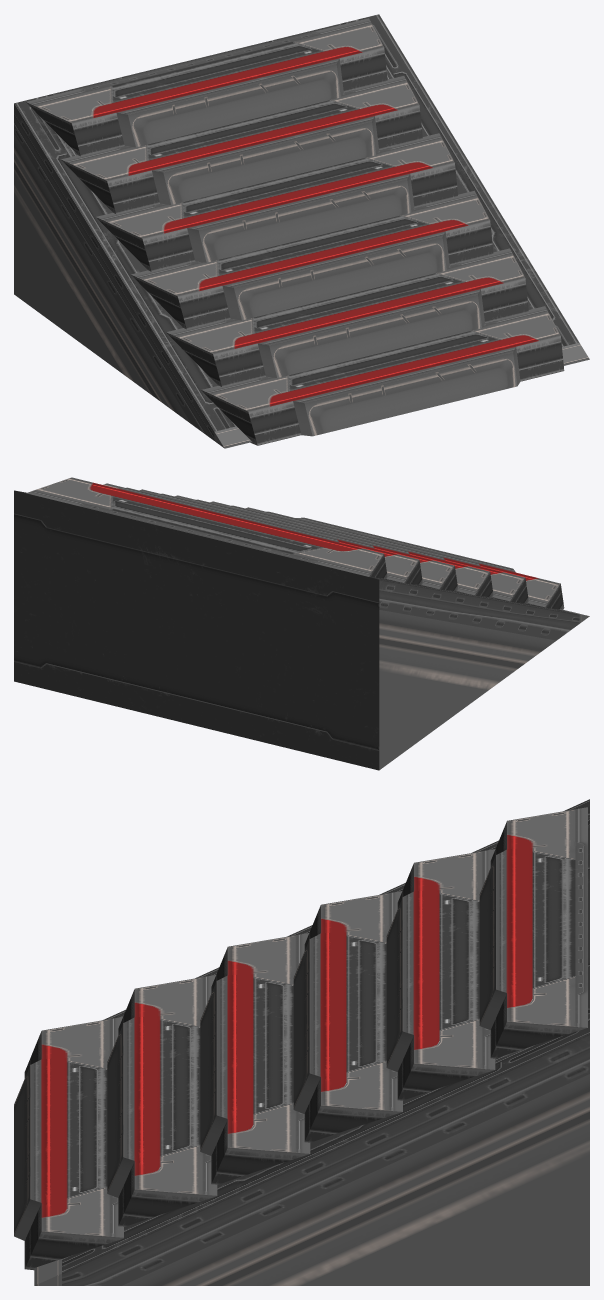
The model's file is Platform_Stairs_2.gltf.
3 views of the same model, one above another, from view 1: azimuth 30°, elevation 25°; view 2: azimuth 150°, elevation 25°; view 3: azimuth 270°, elevation 25° (orthographic). The views are drawn at different scales.
Visible parts, largest first — view 1: Platform_Stairs_2; view 2: Platform_Stairs_2; view 3: Platform_Stairs_2.
Part boxes in pixels (x1=…): Platform_Stairs_2: x1=14, y1=14, x2=589, y2=448; Platform_Stairs_2: x1=14, y1=477, x2=589, y2=770; Platform_Stairs_2: x1=14, y1=799, x2=589, y2=1285.
Bounding box in the file's own units: 2 × 1.01 × 2.07.
2 materials, 2 textured.
